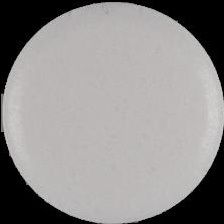10544-235: (0, 0, 224, 224)
